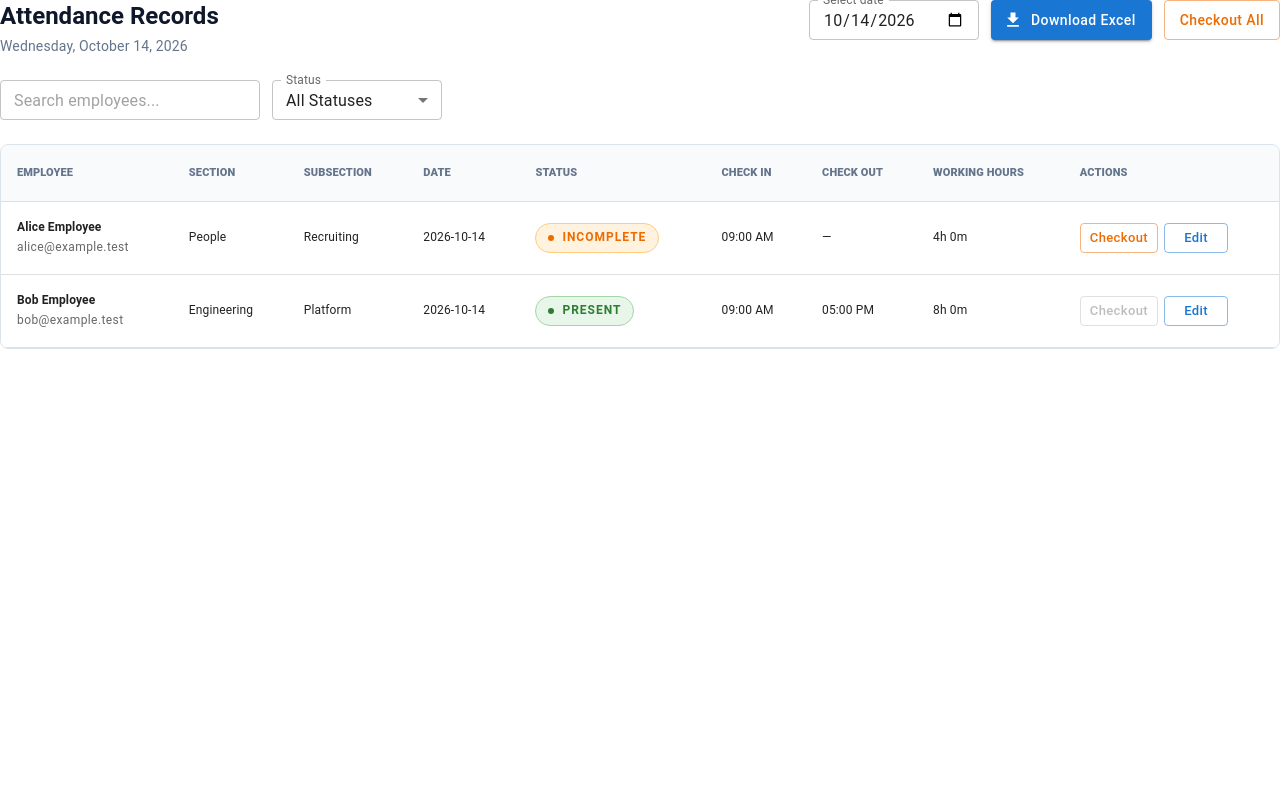
Test case: requires an edit reason and saves attendance corrections
Expected: the text "Alice Employee" is shown, [17,220,102,234]
Click the button "Edit" in the row of "Alice Employee" at (1196,238), box [1164,223,1228,253]
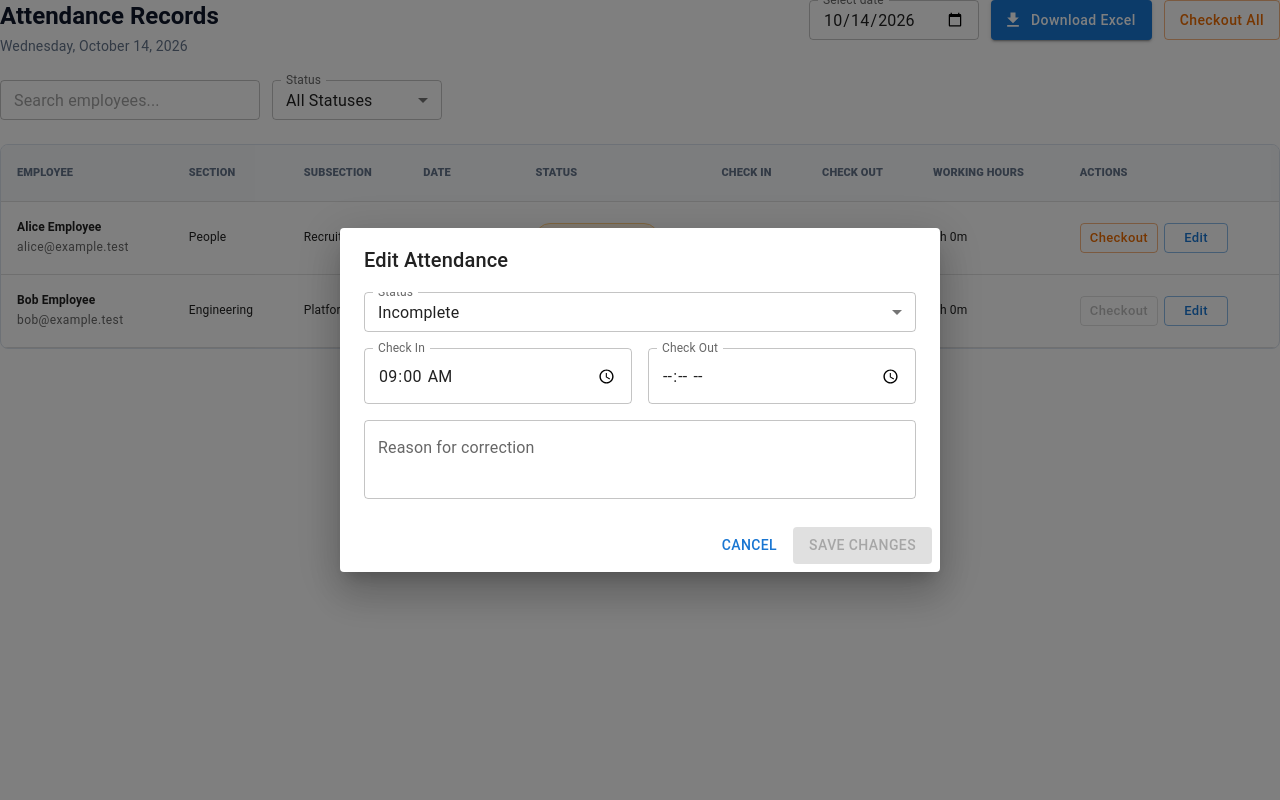
Result: the button "Save Changes" is disabled at [793,527,932,564]
Type "Manager verified the times" into the text box labelled "Reason for correction" at (640,460), box [378,437,902,483]
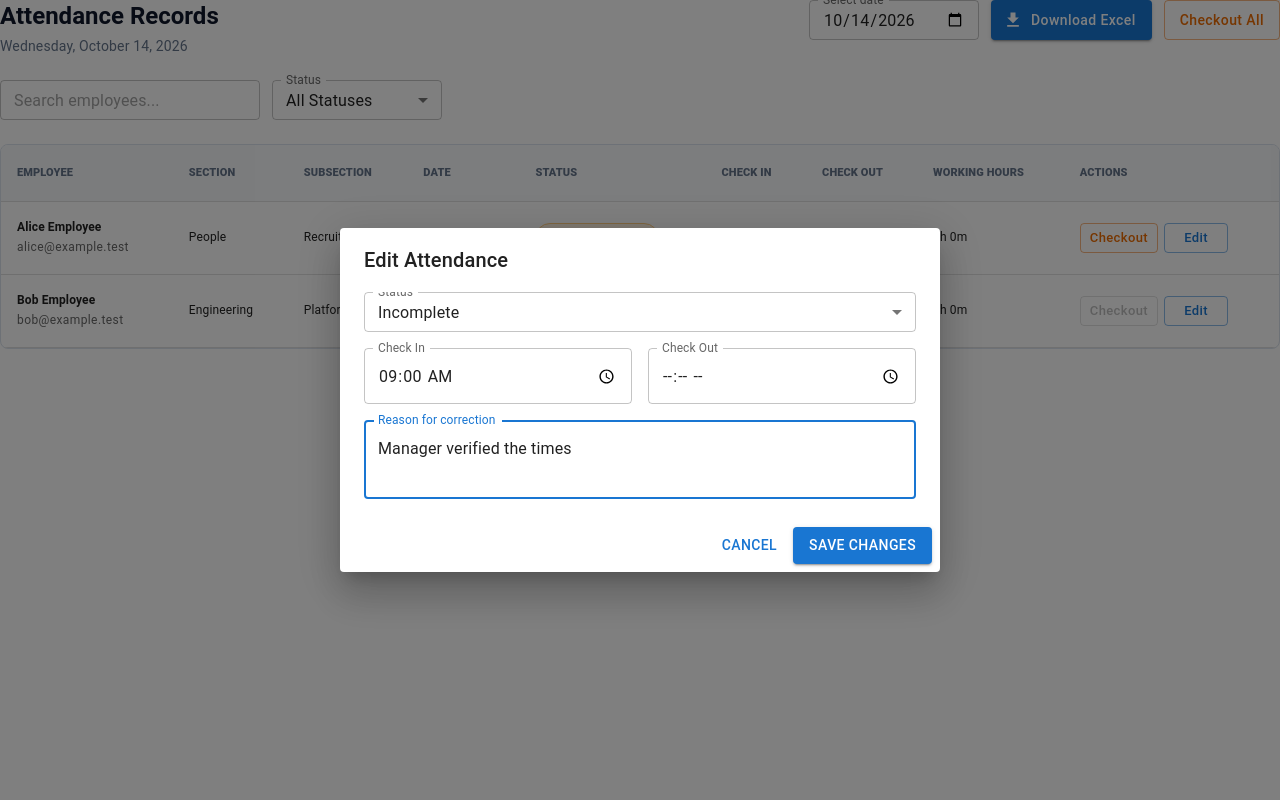
Click the button "Save Changes" at (863,546), box [793,527,932,564]
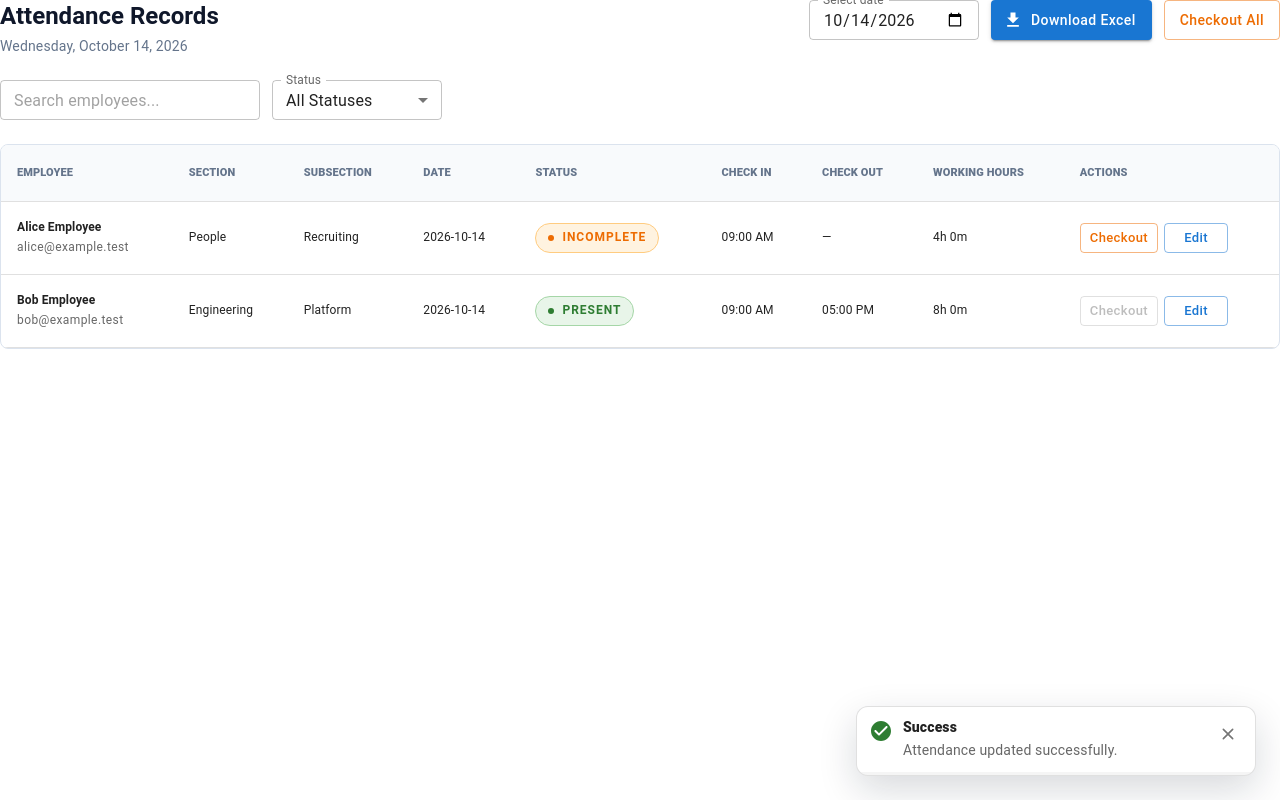
Result: the text "Attendance updated successfully." is shown at [903,742,1118,758]
